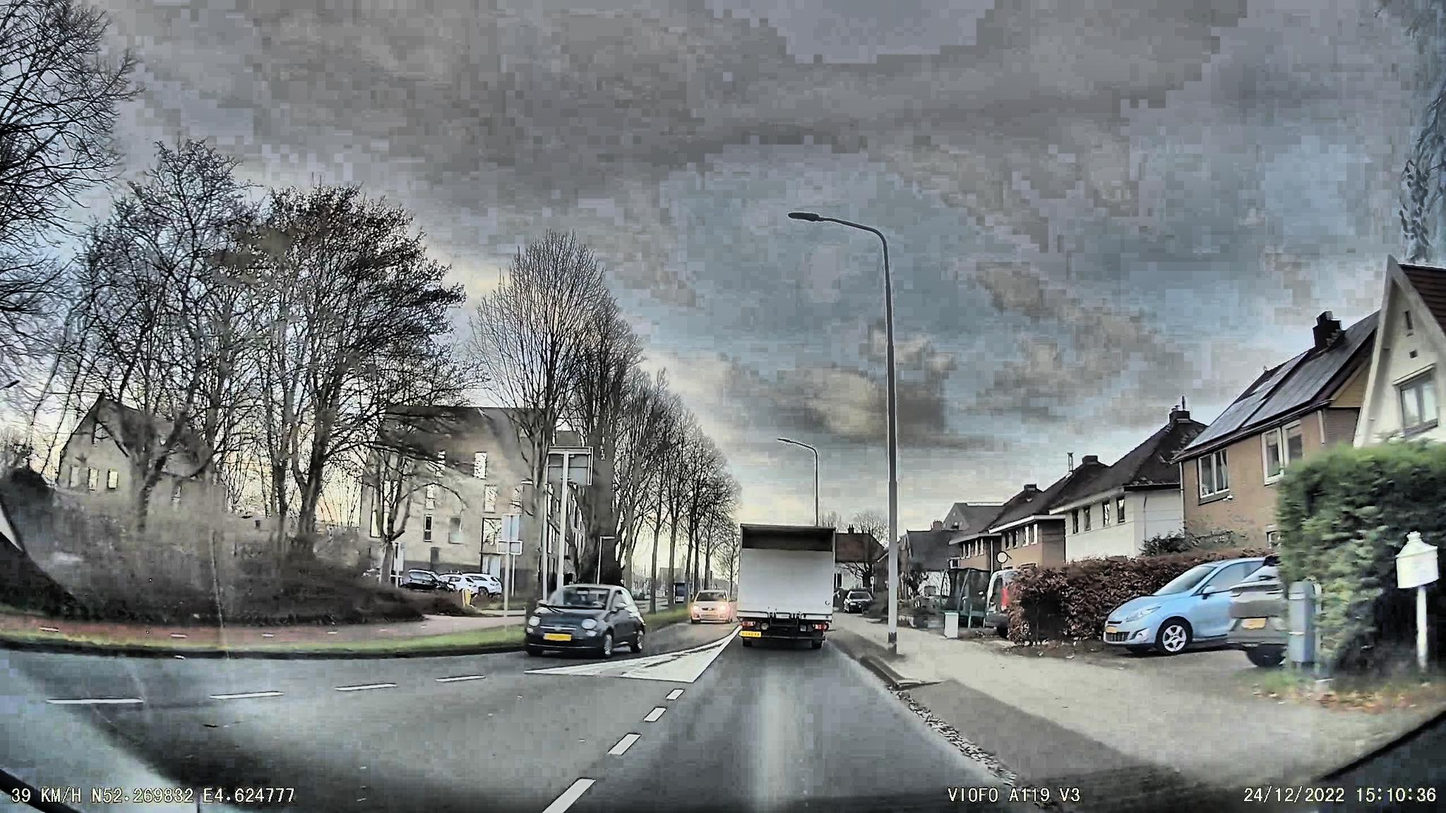Roads: (0, 627, 1023, 813)
